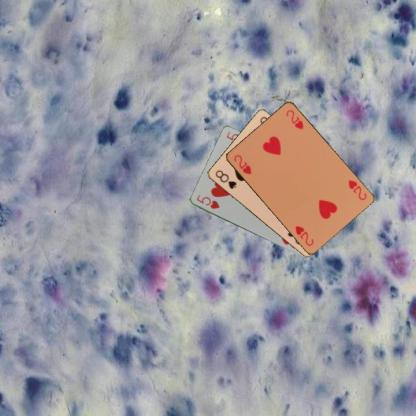2h: (345, 177, 367, 202), (231, 152, 253, 176)
5h: (194, 192, 221, 210)
8s: (212, 168, 237, 190)
